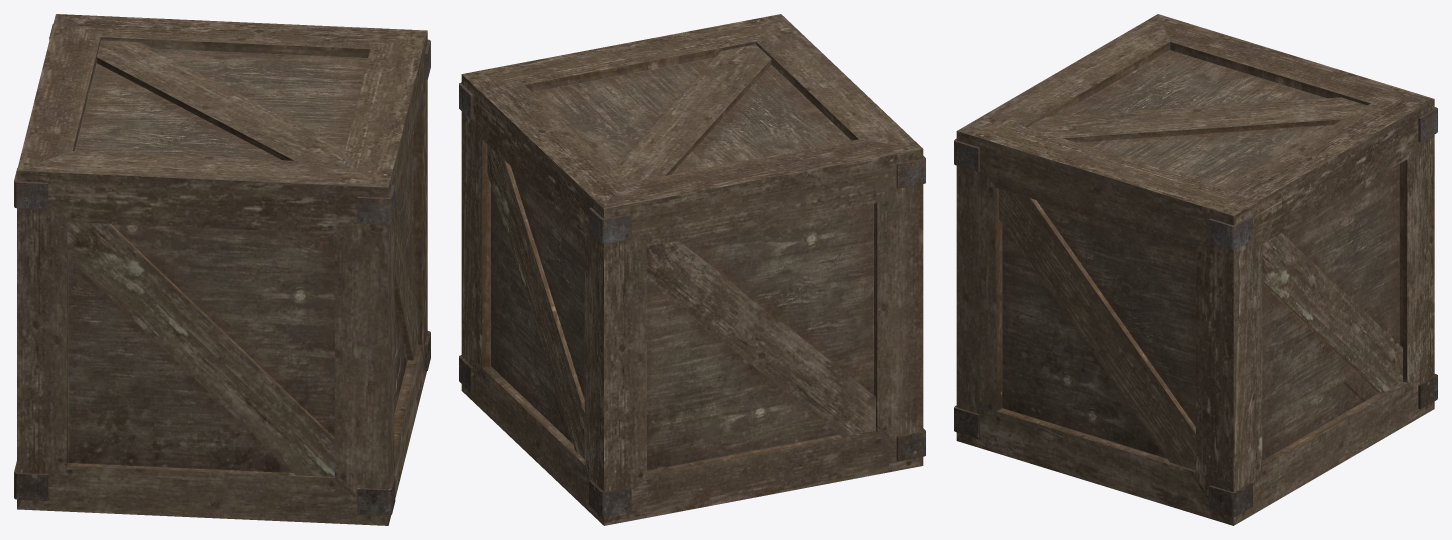
Rendered from Crate.glb.
3 renders of one model, left to right at view 1: azimuth 30°, elevation 25°; view 2: azimuth 150°, elevation 25°; view 3: azimuth 270°, elevation 25°, orthographic. The views are drawn at different scales.
Parts seen in each view (by area): view 1: SM_Crate; view 2: SM_Crate; view 3: SM_Crate.
Boxes of the visible parts, x1,y1,x2,y2 form: SM_Crate: [14, 14, 430, 525]; SM_Crate: [459, 14, 925, 525]; SM_Crate: [954, 14, 1437, 525].
Bounding box in the file's own units: 1.4 × 0.9931 × 1.4.
1 material, 1 textured.
